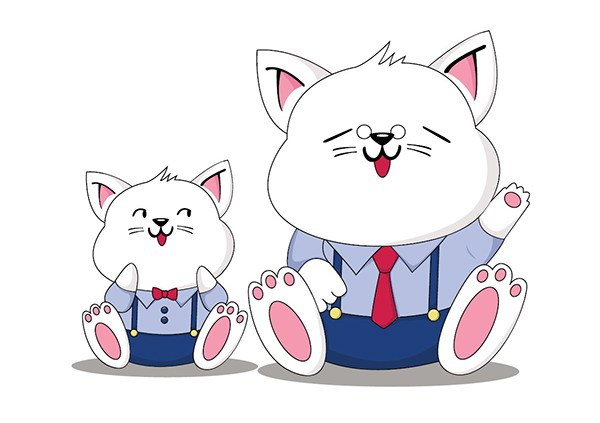cat: (250, 29, 541, 382), (72, 106, 252, 385)
